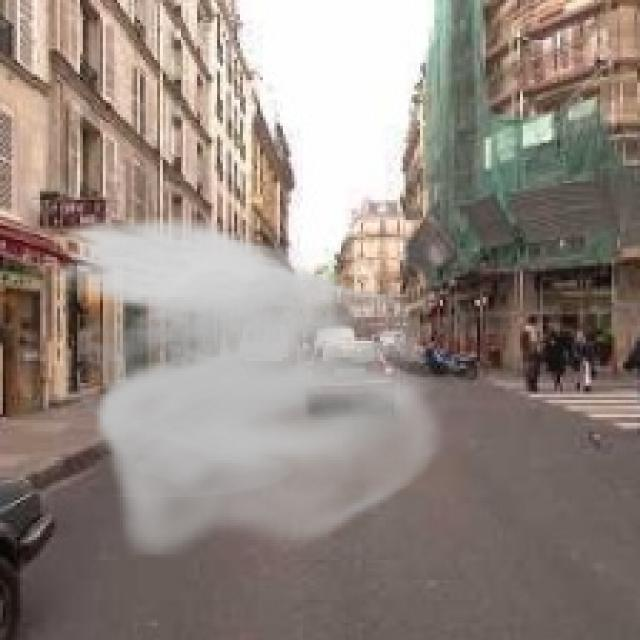smoke: (49, 212, 454, 557)
